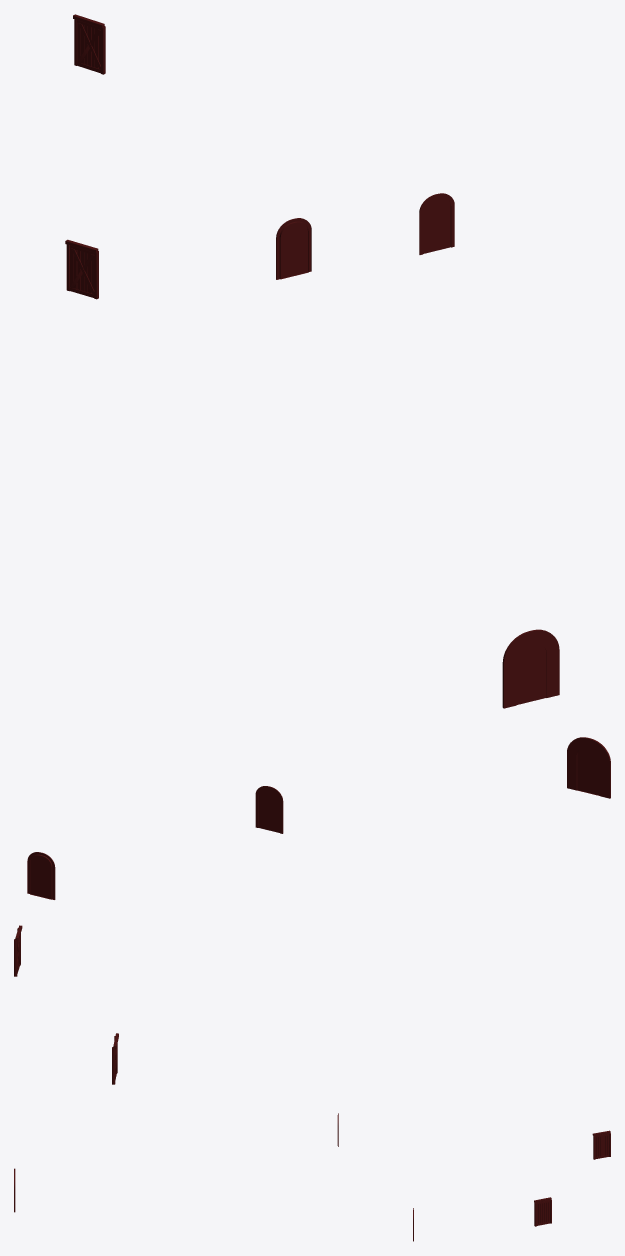
The model's file is FairyTale35.gltf.
3 renders of one model, top to bottom at view 1: azimuth 30°, elevation 25°; view 2: azimuth 150°, elevation 25°; view 3: azimuth 270°, elevation 25°, orthographic. The views are drawn at different scales.
Visible parts, largest first — view 1: CastleSM_WoodDark001; view 2: CastleSM_WoodDark001; view 3: CastleSM_WoodDark001.
Boxes of the visible parts, x1,y1,x2,y2 form: CastleSM_WoodDark001: [65, 14, 559, 708]; CastleSM_WoodDark001: [14, 737, 610, 1084]; CastleSM_WoodDark001: [14, 1113, 610, 1241].
Size of the model in its own units: 16.24 by 9.95 by 48.02.
